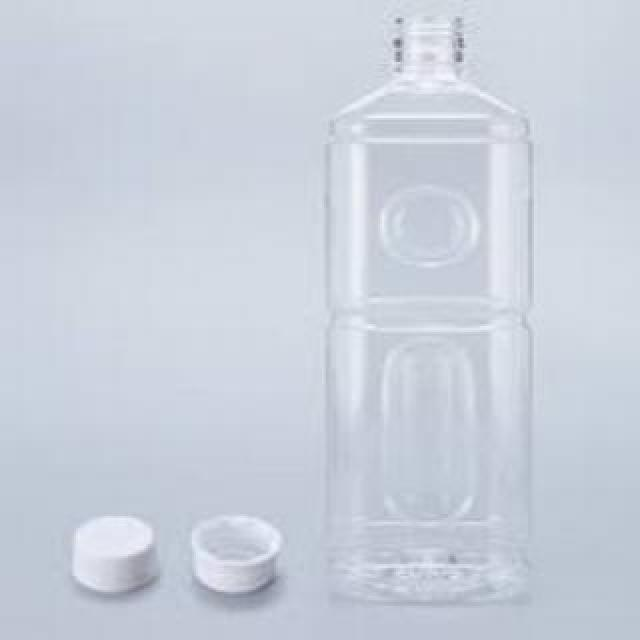Pet_Bottle: (321, 0, 545, 610)
